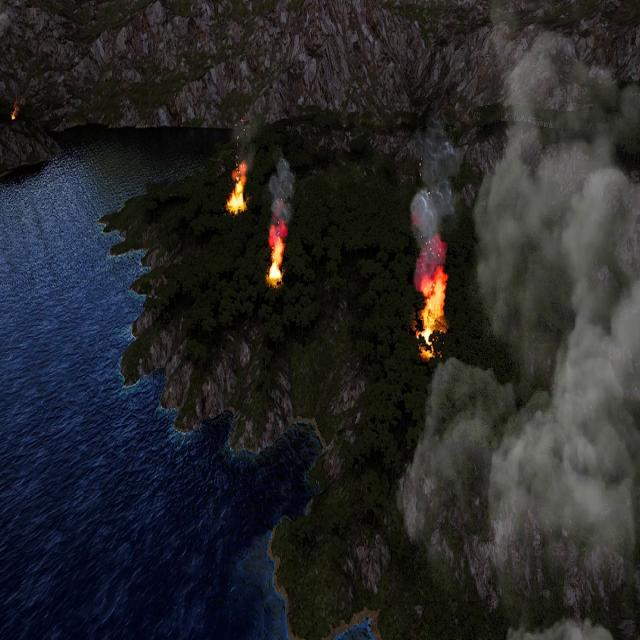fire: (415, 265, 447, 344), (266, 224, 288, 280), (227, 162, 249, 214), (10, 105, 18, 124)
smoke: (399, 49, 640, 634), (408, 143, 458, 282), (266, 157, 298, 218)
